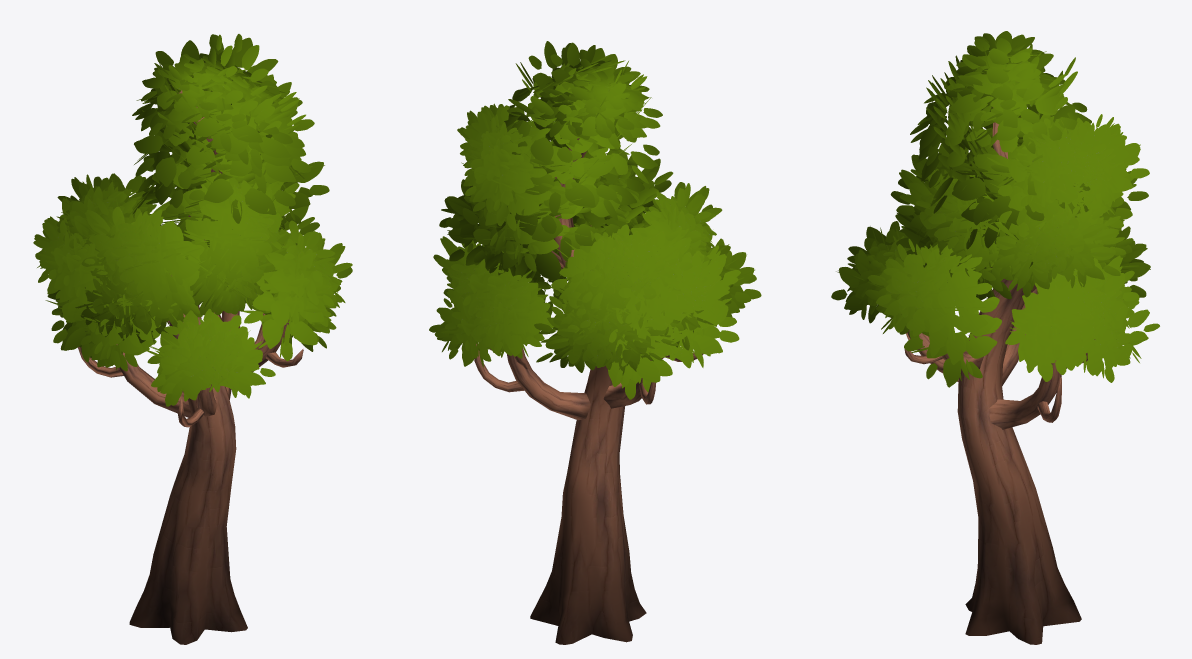
Rendered from commontree_2.glb.
3 renders of one model, left to right at view 1: azimuth 30°, elevation 25°; view 2: azimuth 150°, elevation 25°; view 3: azimuth 270°, elevation 25°, orthographic. The views are drawn at different scales.
Parts seen in each view (by area): view 1: CommonTree_2; view 2: CommonTree_2; view 3: CommonTree_2.
Part boxes in pixels (x1=…): CommonTree_2: x1=33, y1=34, x2=352, y2=644; CommonTree_2: x1=429, y1=41, x2=761, y2=644; CommonTree_2: x1=831, y1=31, x2=1159, y2=644.
Bounding box in the file's own units: 4.46 × 7.64 × 4.28.
Materials: 2 (2 with a texture image).
